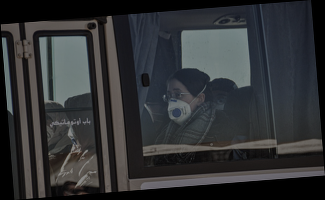with_mask: (165, 86, 194, 127)
